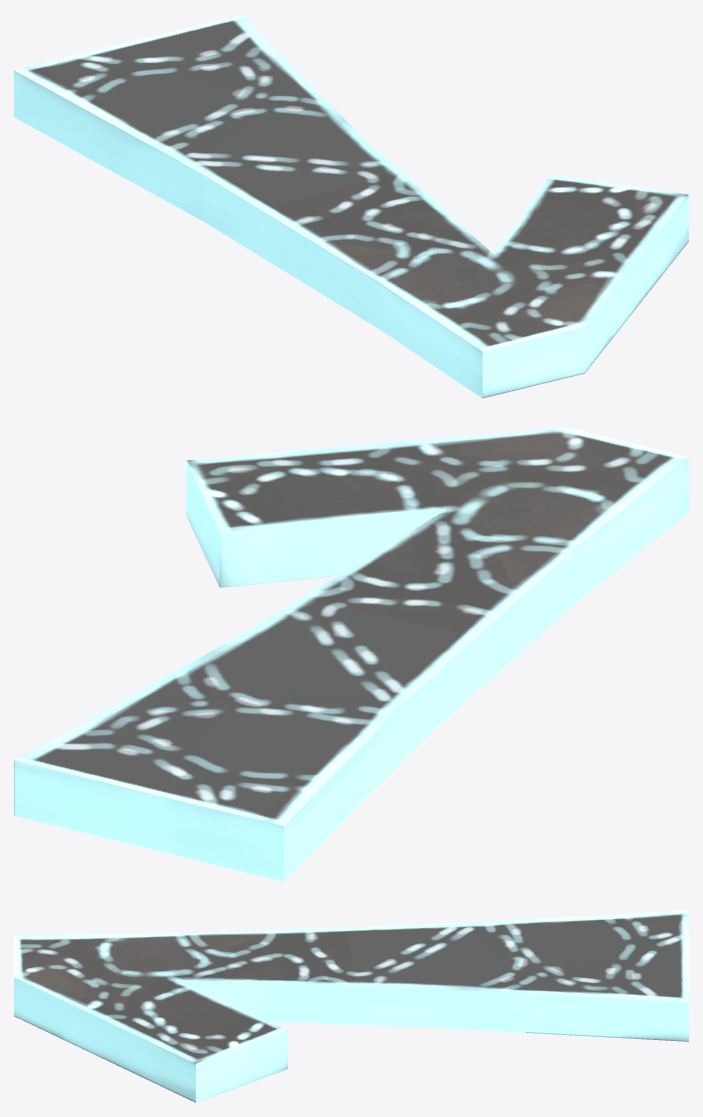
3 renders of one model, top to bottom at view 1: azimuth 30°, elevation 25°; view 2: azimuth 150°, elevation 25°; view 3: azimuth 270°, elevation 25°, orthographic. The views are drawn at different scales.
Visible parts, largest first — view 1: Cube.014; view 2: Cube.014; view 3: Cube.014.
Part boxes in pixels (<box>): Cube.014: <box>14,14,688,398</box>; Cube.014: <box>14,427,688,881</box>; Cube.014: <box>14,910,688,1102</box>.
Bounding box in the file's own units: 0.6022 × 0.0713 × 1.12.
